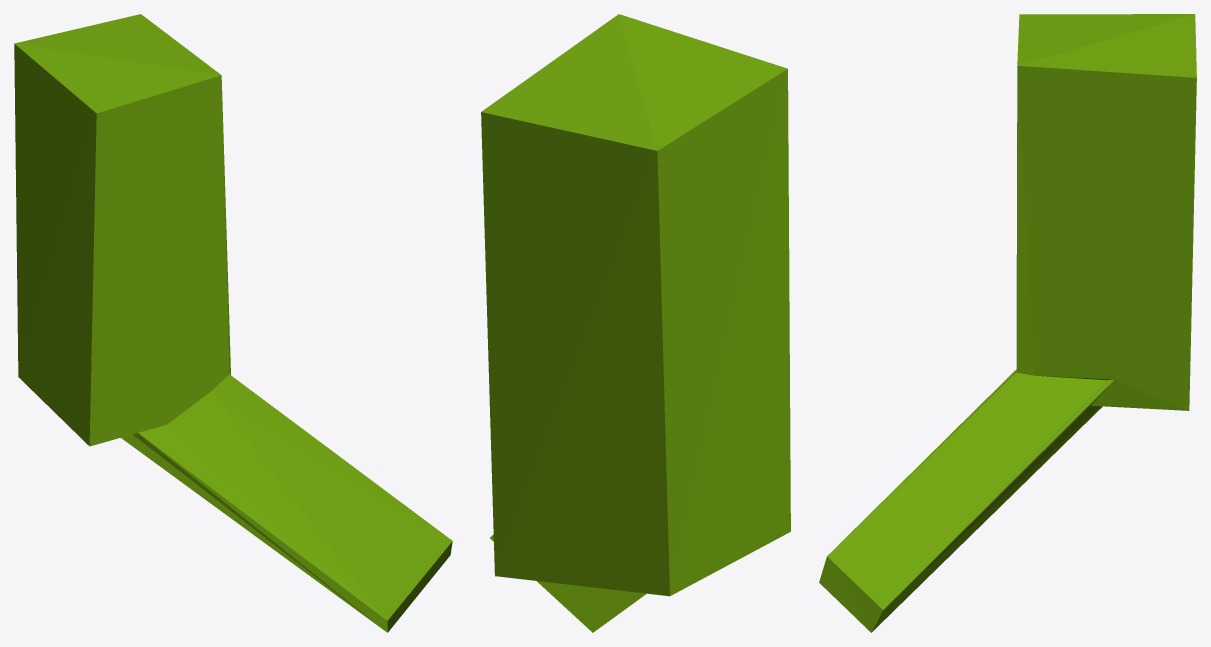
3 views of the same model, side by side, from view 1: azimuth 30°, elevation 25°; view 2: azimuth 150°, elevation 25°; view 3: azimuth 270°, elevation 25° (orthographic). The views are drawn at different scales.
Visible parts, largest first — view 1: 165_Cube.690; view 2: 165_Cube.690; view 3: 165_Cube.690.
Part boxes in pixels (x1,y1,x2,y2): 165_Cube.690: [14, 14, 452, 632]; 165_Cube.690: [481, 14, 790, 632]; 165_Cube.690: [819, 14, 1196, 632].
Size of the model in its own units: 10.83 by 18.79 by 12.32.
